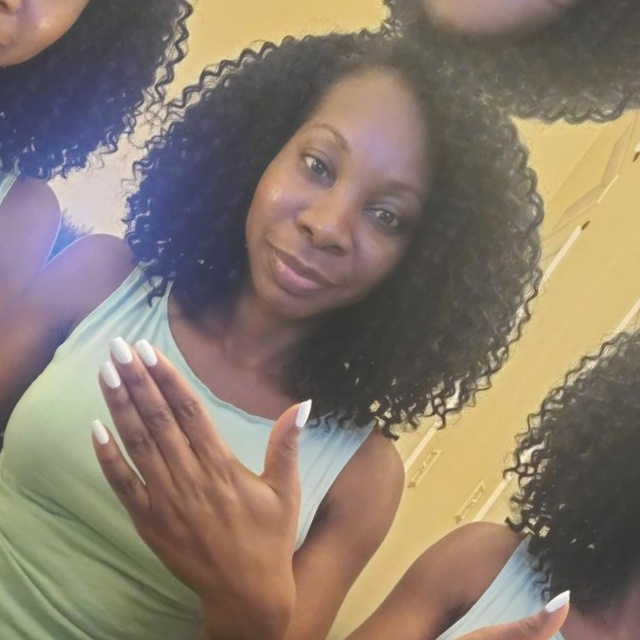Paper: (0, 0, 5, 354)
